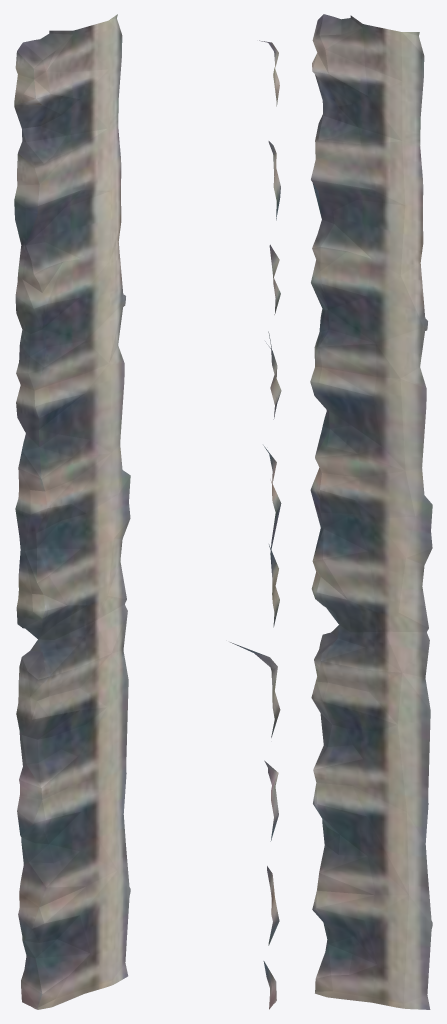
File: Tile_+002_+005_L21_0000400.glb
The picture shows the model from 3 angles, left to right: view 1: azimuth 30°, elevation 25°; view 2: azimuth 150°, elevation 25°; view 3: azimuth 330°, elevation 25°; orthographic projection.
Parts seen in each view (by area): view 1: rtc; view 2: rtc; view 3: rtc.
Part boxes in pixels (bbox=[...]): rtc: bbox=[14, 14, 130, 1009]; rtc: bbox=[230, 40, 281, 1009]; rtc: bbox=[310, 14, 432, 1009].
Bounding box in the file's own units: 2.61 × 20.65 × 0.5737.
Materials: 1 (1 with a texture image).
